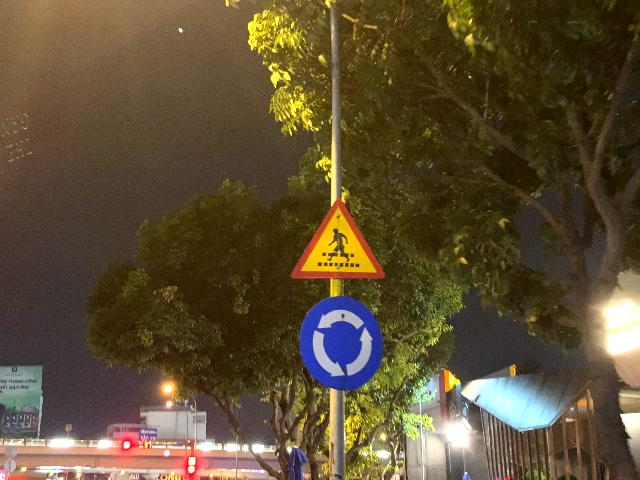duong-nguoi-di-bo-cat-ngang: (290, 197, 386, 279)
noi-giao-nhau-chay-theo-vong-xuyen: (299, 296, 384, 392)
